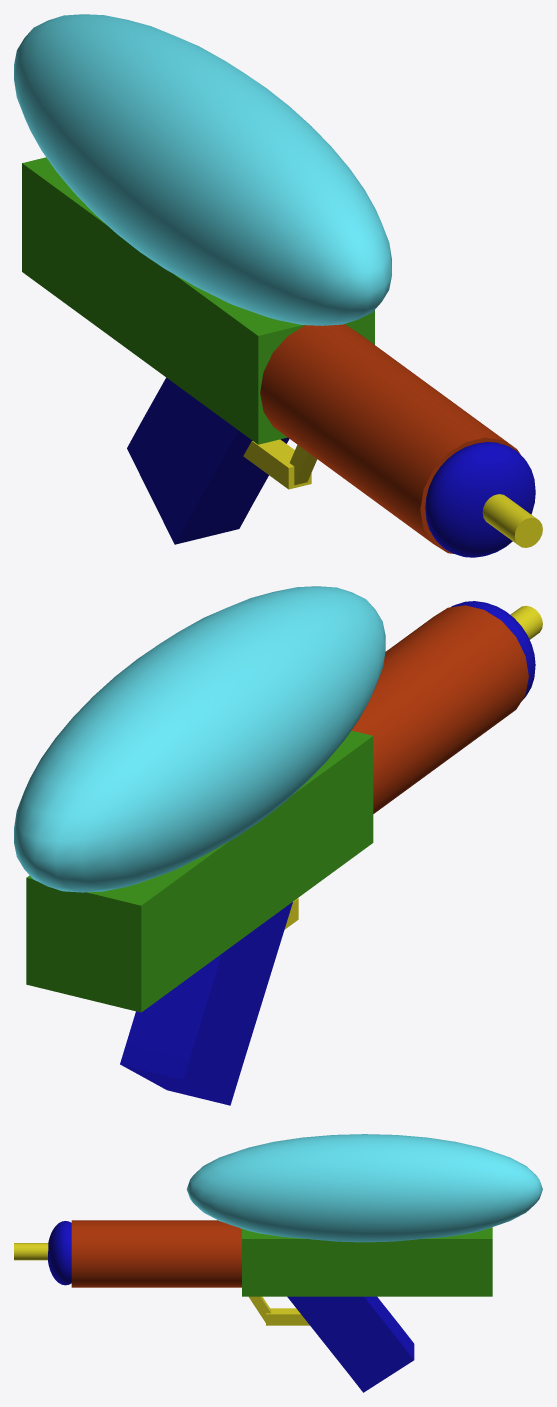
The model's file is Level 2 Water Gun prefab.fbx.
3 renders of one model, top to bottom at view 1: azimuth 30°, elevation 25°; view 2: azimuth 150°, elevation 25°; view 3: azimuth 270°, elevation 25°, orthographic. The views are drawn at different scales.
Parts seen in each view (by area): view 1: Sphere001, Box005, Cylinder003, Box002, Sphere002, Cylinder004, Box003, Box004; view 2: Sphere001, Box005, Cylinder003, Box002, Sphere002, Cylinder004; view 3: Sphere001, Box005, Cylinder003, Box002, Sphere002, Box003, Cylinder004.
Part boxes in pixels (x1,y1,x2,y2): Sphere001: (14, 14, 391, 325); Box005: (22, 157, 374, 444); Cylinder003: (260, 324, 520, 553); Box002: (127, 377, 289, 544); Sphere002: (425, 442, 535, 557); Cylinder004: (482, 494, 542, 547); Box003: (243, 439, 311, 489); Box004: (289, 445, 317, 484); Sphere001: (14, 586, 385, 892); Box005: (26, 730, 373, 1012); Cylinder003: (351, 605, 528, 813); Box002: (120, 902, 292, 1105); Sphere002: (451, 601, 535, 700); Cylinder004: (510, 605, 542, 639); Sphere001: (186, 1134, 542, 1242); Box005: (242, 1227, 492, 1296); Cylinder003: (71, 1220, 241, 1287); Box002: (287, 1296, 414, 1392); Sphere002: (48, 1221, 71, 1285); Box003: (266, 1308, 309, 1325); Cylinder004: (14, 1243, 48, 1260).
Size of the model in its own units: 138 by 342 by 670.
